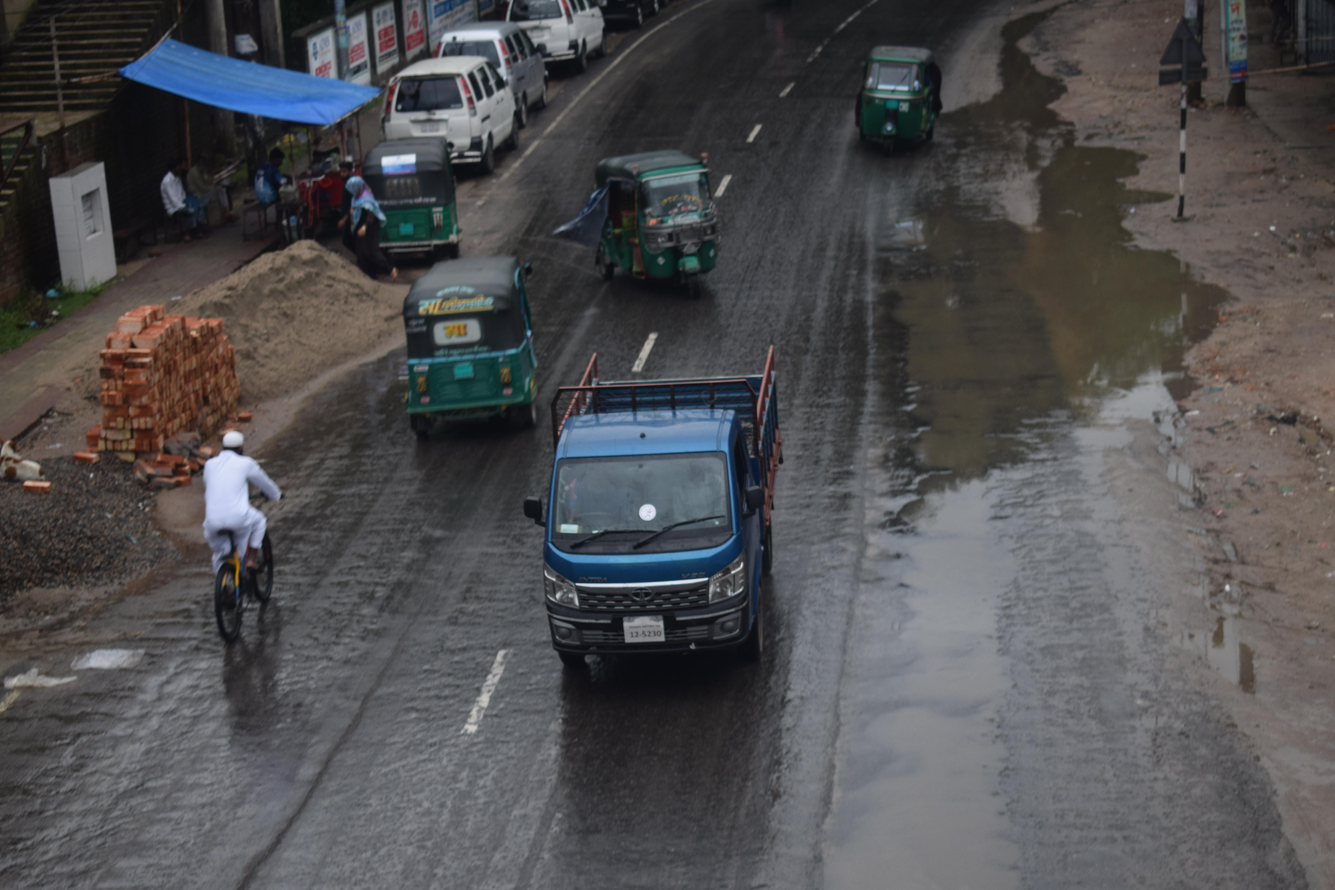Car: (349, 43, 540, 189), (501, 0, 626, 81)
Truck: (509, 332, 797, 688)
